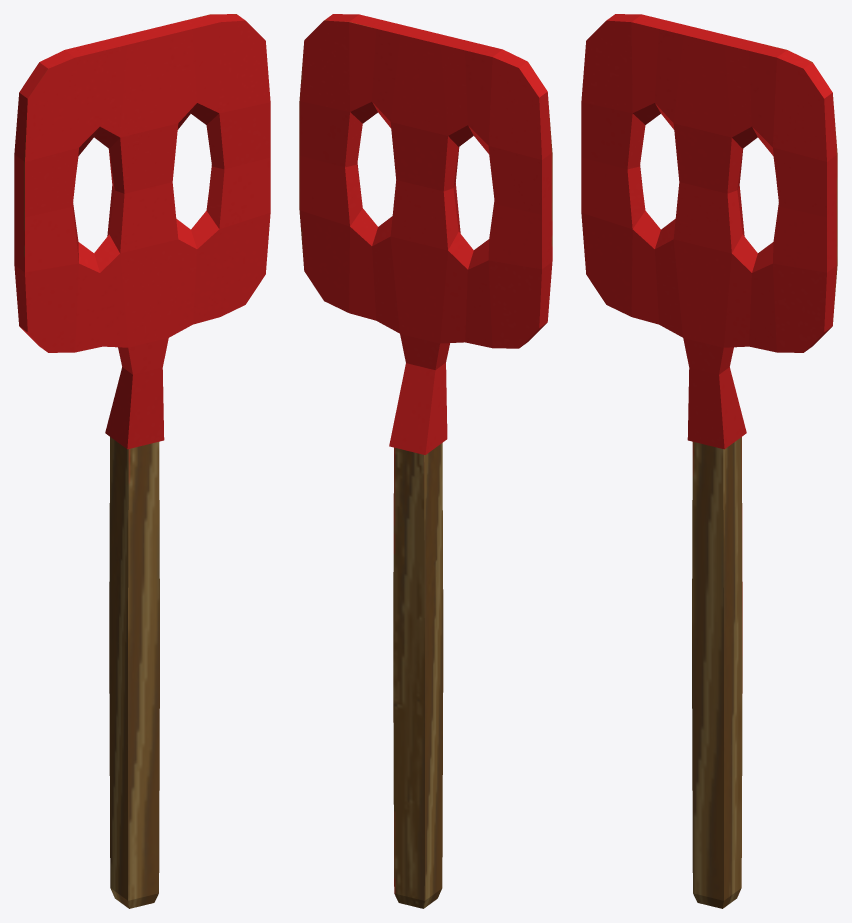
File: spatula.fbx
3 views of the same model, side by side, from view 1: azimuth 30°, elevation 25°; view 2: azimuth 150°, elevation 25°; view 3: azimuth 330°, elevation 25° (orthographic).
Parts seen in each view (by area): view 1: Cube.004; view 2: Cube.004; view 3: Cube.004.
Boxes of the visible parts, left/top/right/bottom form: Cube.004: left=14, top=14, right=270, bottom=908; Cube.004: left=299, top=14, right=552, bottom=908; Cube.004: left=581, top=14, right=837, bottom=908.
Bounding box in the file's own units: 71.51 × 242 × 12.96.
Materials: 1 (1 with a texture image).
